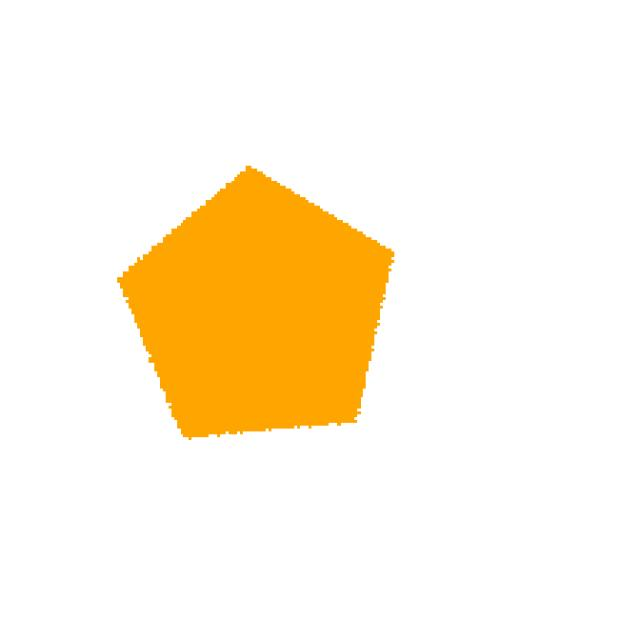Pentagon: (66, 163, 451, 461)
